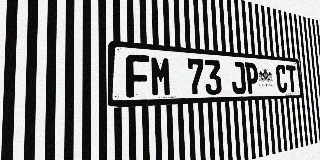3: (204, 59, 222, 95)
7: (186, 58, 205, 96)
C: (275, 64, 288, 93)
F: (126, 54, 150, 98)
J: (231, 61, 246, 94)
M: (150, 56, 172, 97)
P: (245, 62, 259, 94)
T: (286, 65, 298, 92)
